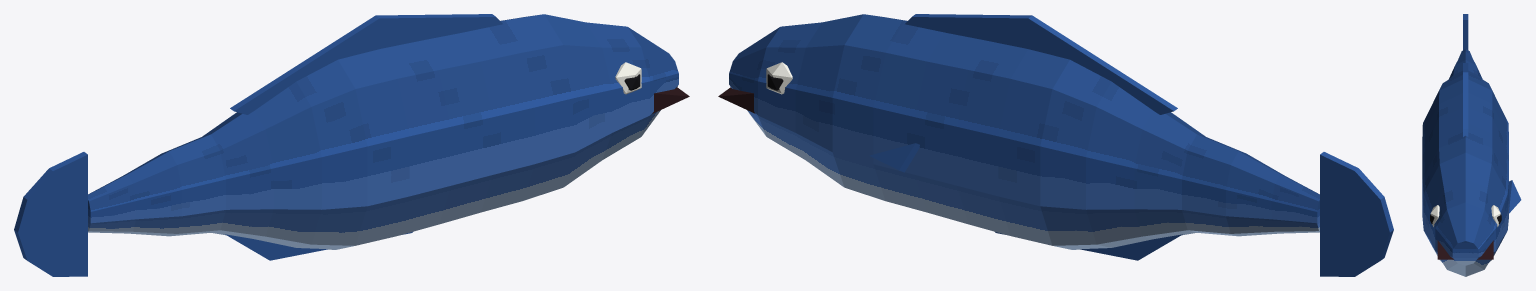
Rendered from blue_groper.glb.
The picture shows the model from 3 angles, left to right: view 1: azimuth 30°, elevation 25°; view 2: azimuth 150°, elevation 25°; view 3: azimuth 270°, elevation 25°; orthographic projection. The views are drawn at different scales.
Parts seen in each view (by area): view 1: fish_blue_groper; view 2: fish_blue_groper; view 3: fish_blue_groper.
Boxes of the visible parts, box(x1,y1,x2,y2) form: fish_blue_groper: box(14, 14, 689, 276); fish_blue_groper: box(718, 14, 1393, 276); fish_blue_groper: box(1422, 14, 1521, 276).
Size of the model in its own units: 1.12 by 0.3658 by 0.2178.
5 materials, 1 textured.
